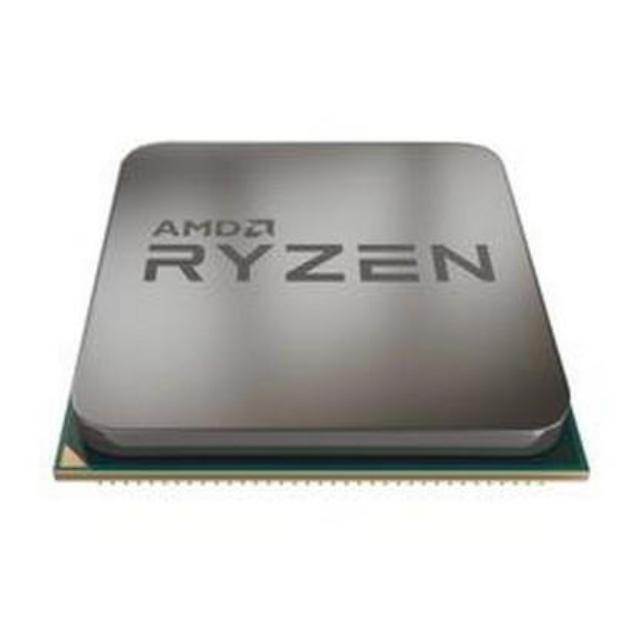CPU: (71, 116, 568, 479)
